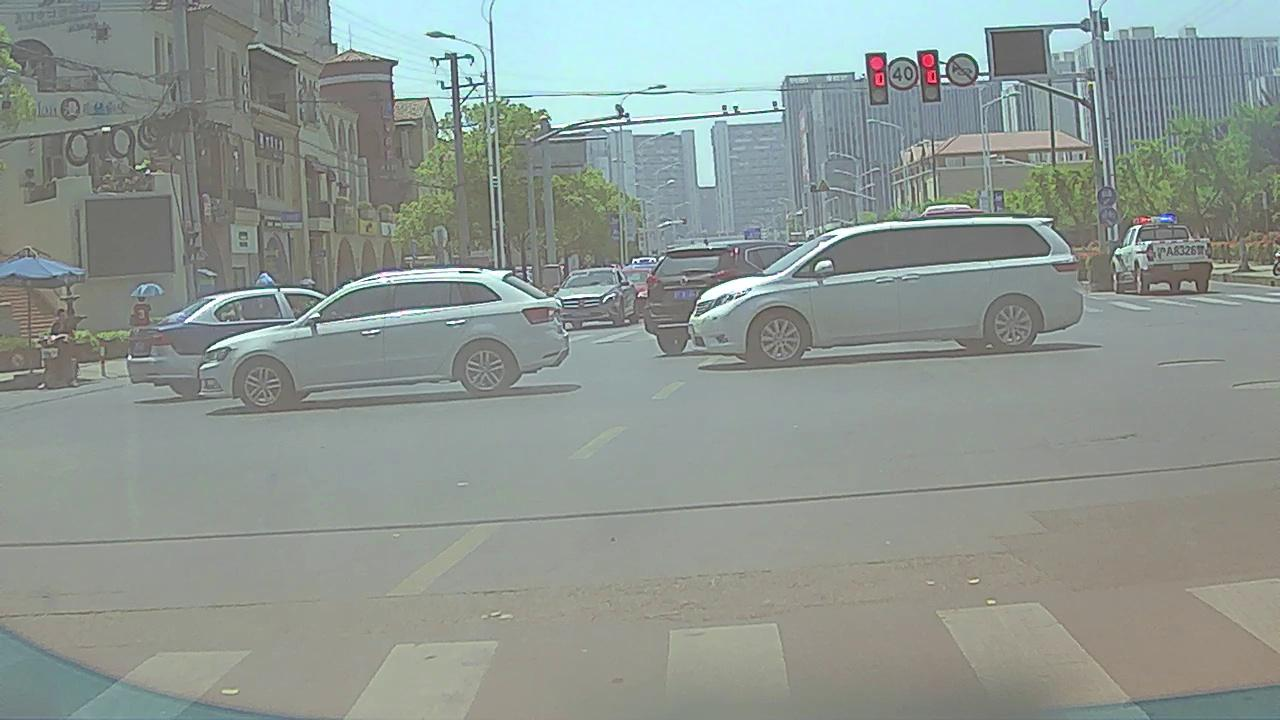traffic_light: (922, 52, 940, 103), (869, 55, 887, 102)
